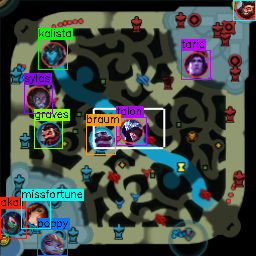akali: (1, 211, 23, 236)
braum: (89, 126, 112, 150)
graves: (36, 122, 60, 145)
kalista: (40, 41, 65, 67)
missfortune: (24, 201, 48, 227)
monkeyking: (234, 1, 256, 20)
poppy: (40, 232, 65, 256)
sylas: (25, 86, 50, 110)
talon: (118, 117, 142, 143)
taric: (183, 52, 207, 77)
